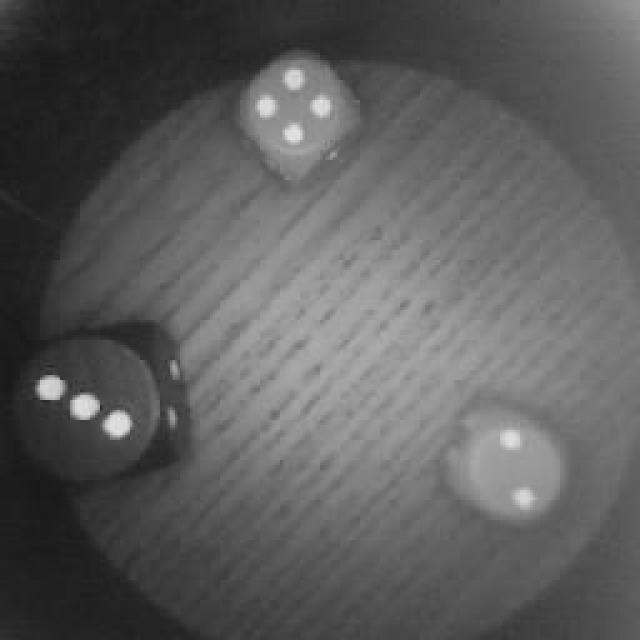dice_2: (440, 395, 580, 540)
dice_3: (12, 328, 180, 490)
dice_4: (237, 42, 355, 180)
